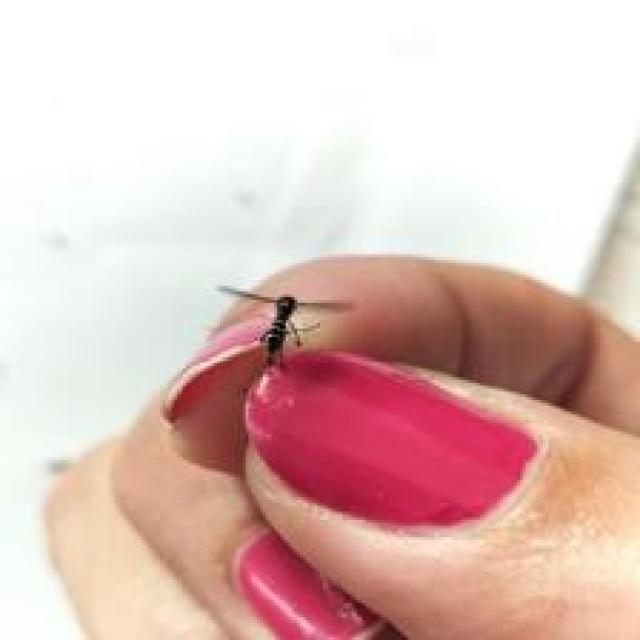Aedes albopictus: (216, 283, 353, 368)
